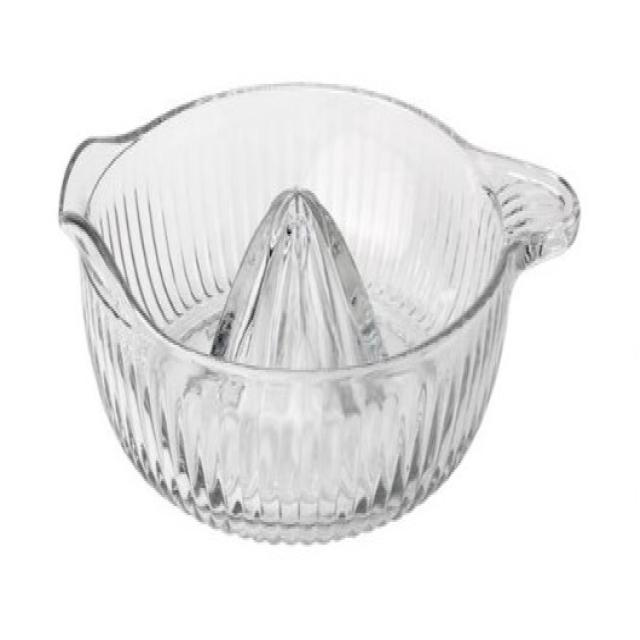electronic: (56, 87, 582, 546)
